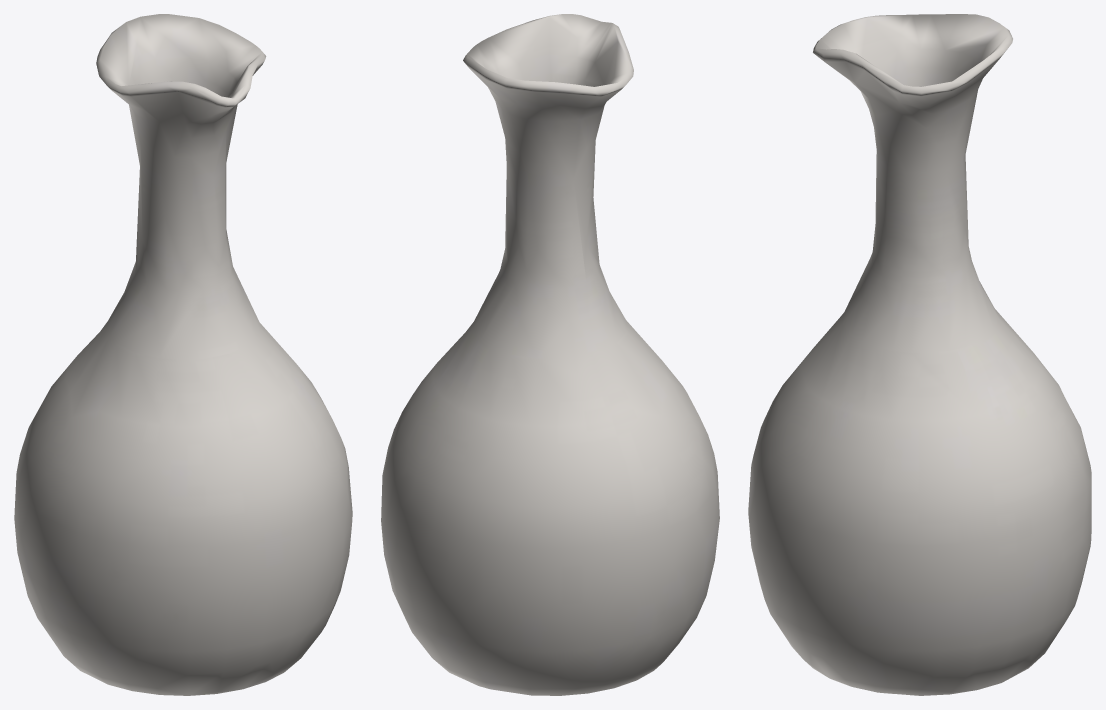
Rendered from ceramic_vase_01.glb.
3 views of the same model, side by side, from view 1: azimuth 30°, elevation 25°; view 2: azimuth 150°, elevation 25°; view 3: azimuth 270°, elevation 25° (orthographic). The views are drawn at different scales.
Visible parts, largest first — view 1: ceramic_vase_01; view 2: ceramic_vase_01; view 3: ceramic_vase_01.
Part boxes in pixels (x1,y1,x2,y2): ceramic_vase_01: (14, 14, 352, 695); ceramic_vase_01: (381, 14, 719, 695); ceramic_vase_01: (748, 14, 1091, 695).
Size of the model in its own units: 0.2022 by 0.4002 by 0.2025.
Materials: 1 (1 with a texture image).
